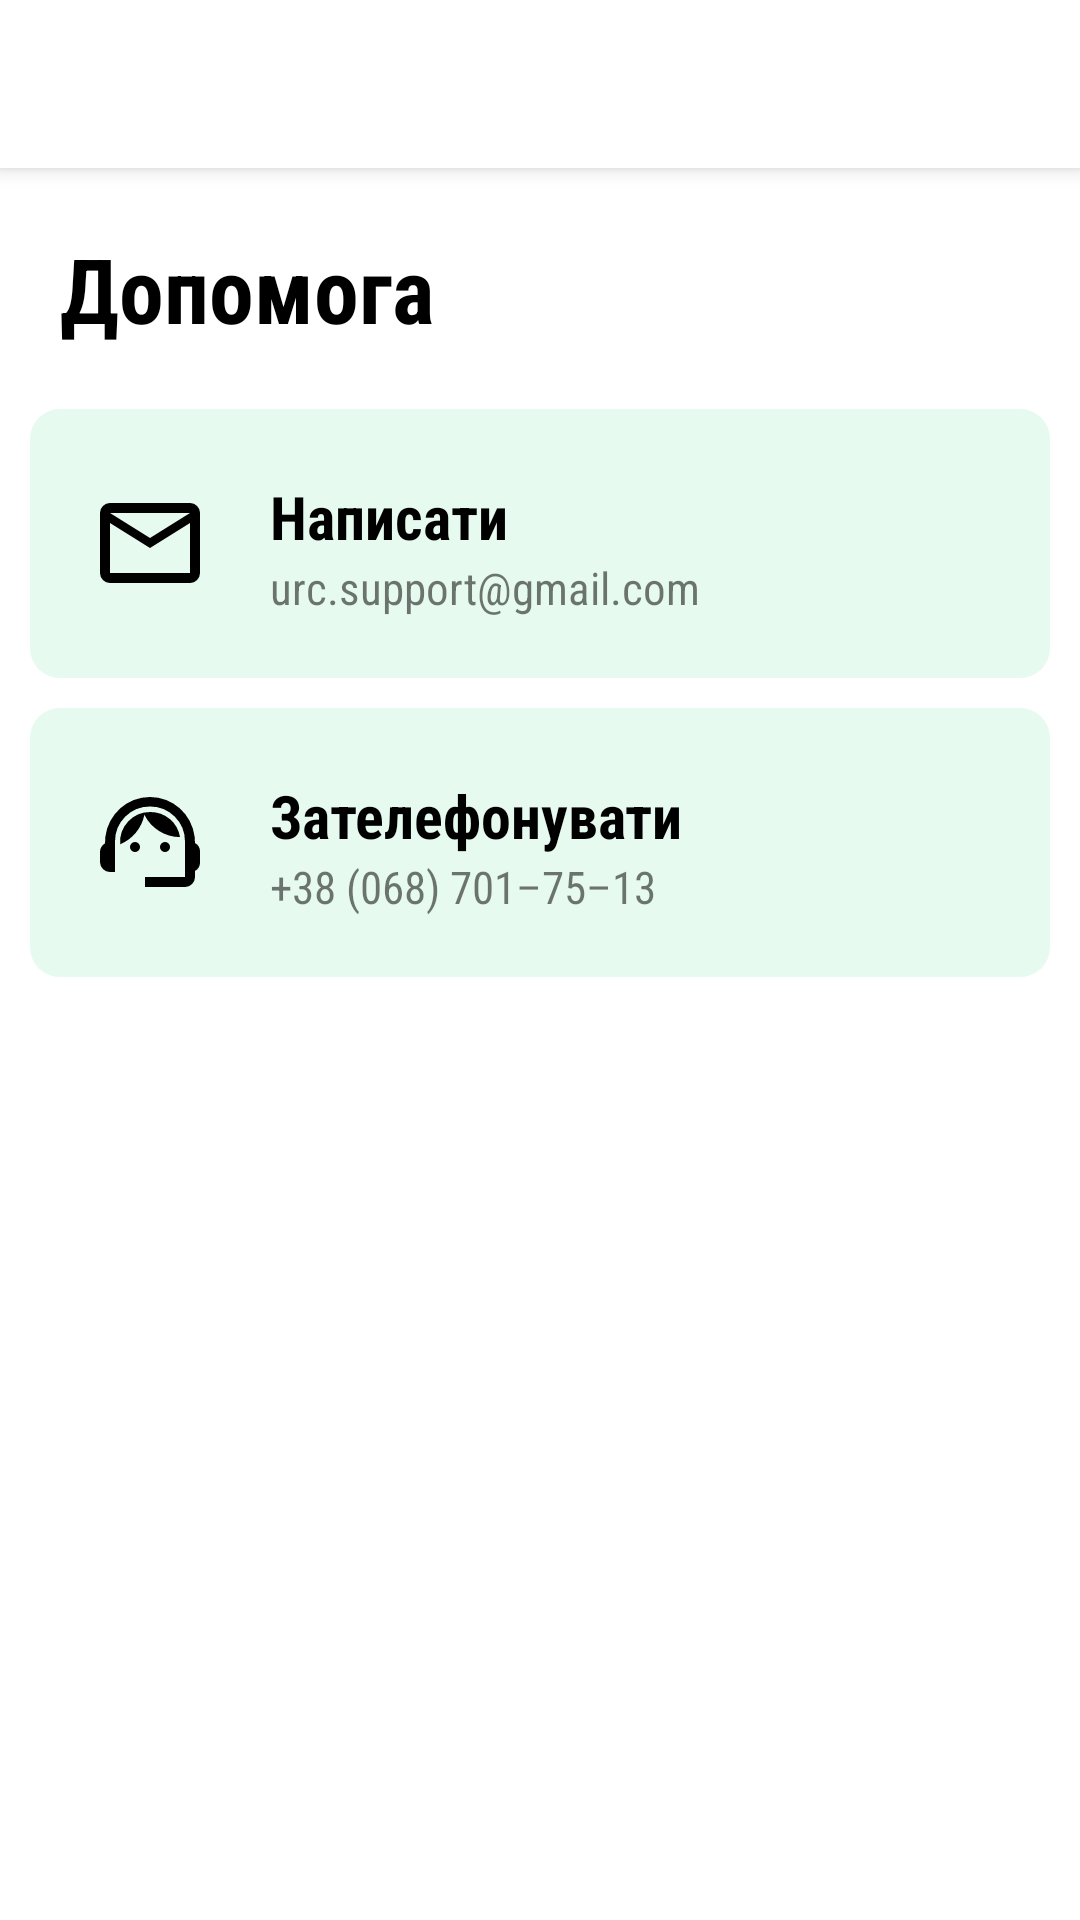

Locate icon controls on the screen. Image size 1080*1920, boxes as (x1, y1, x2, y2).
support agent: (100, 797, 200, 887)
